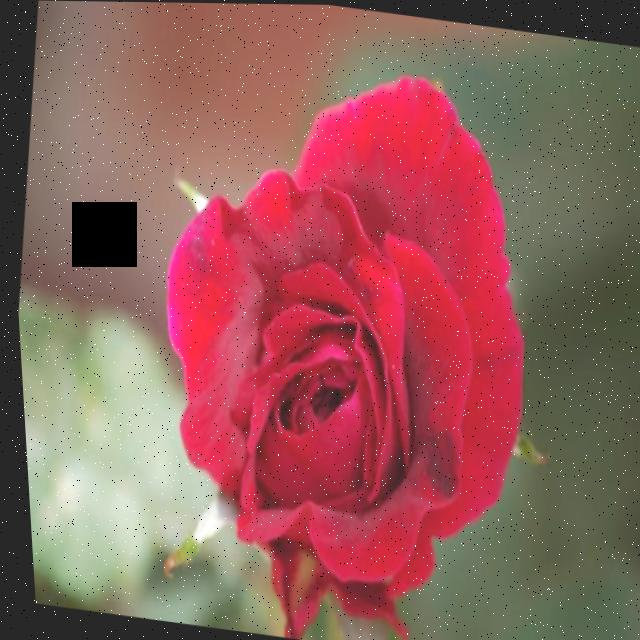rose: (139, 36, 561, 640)
